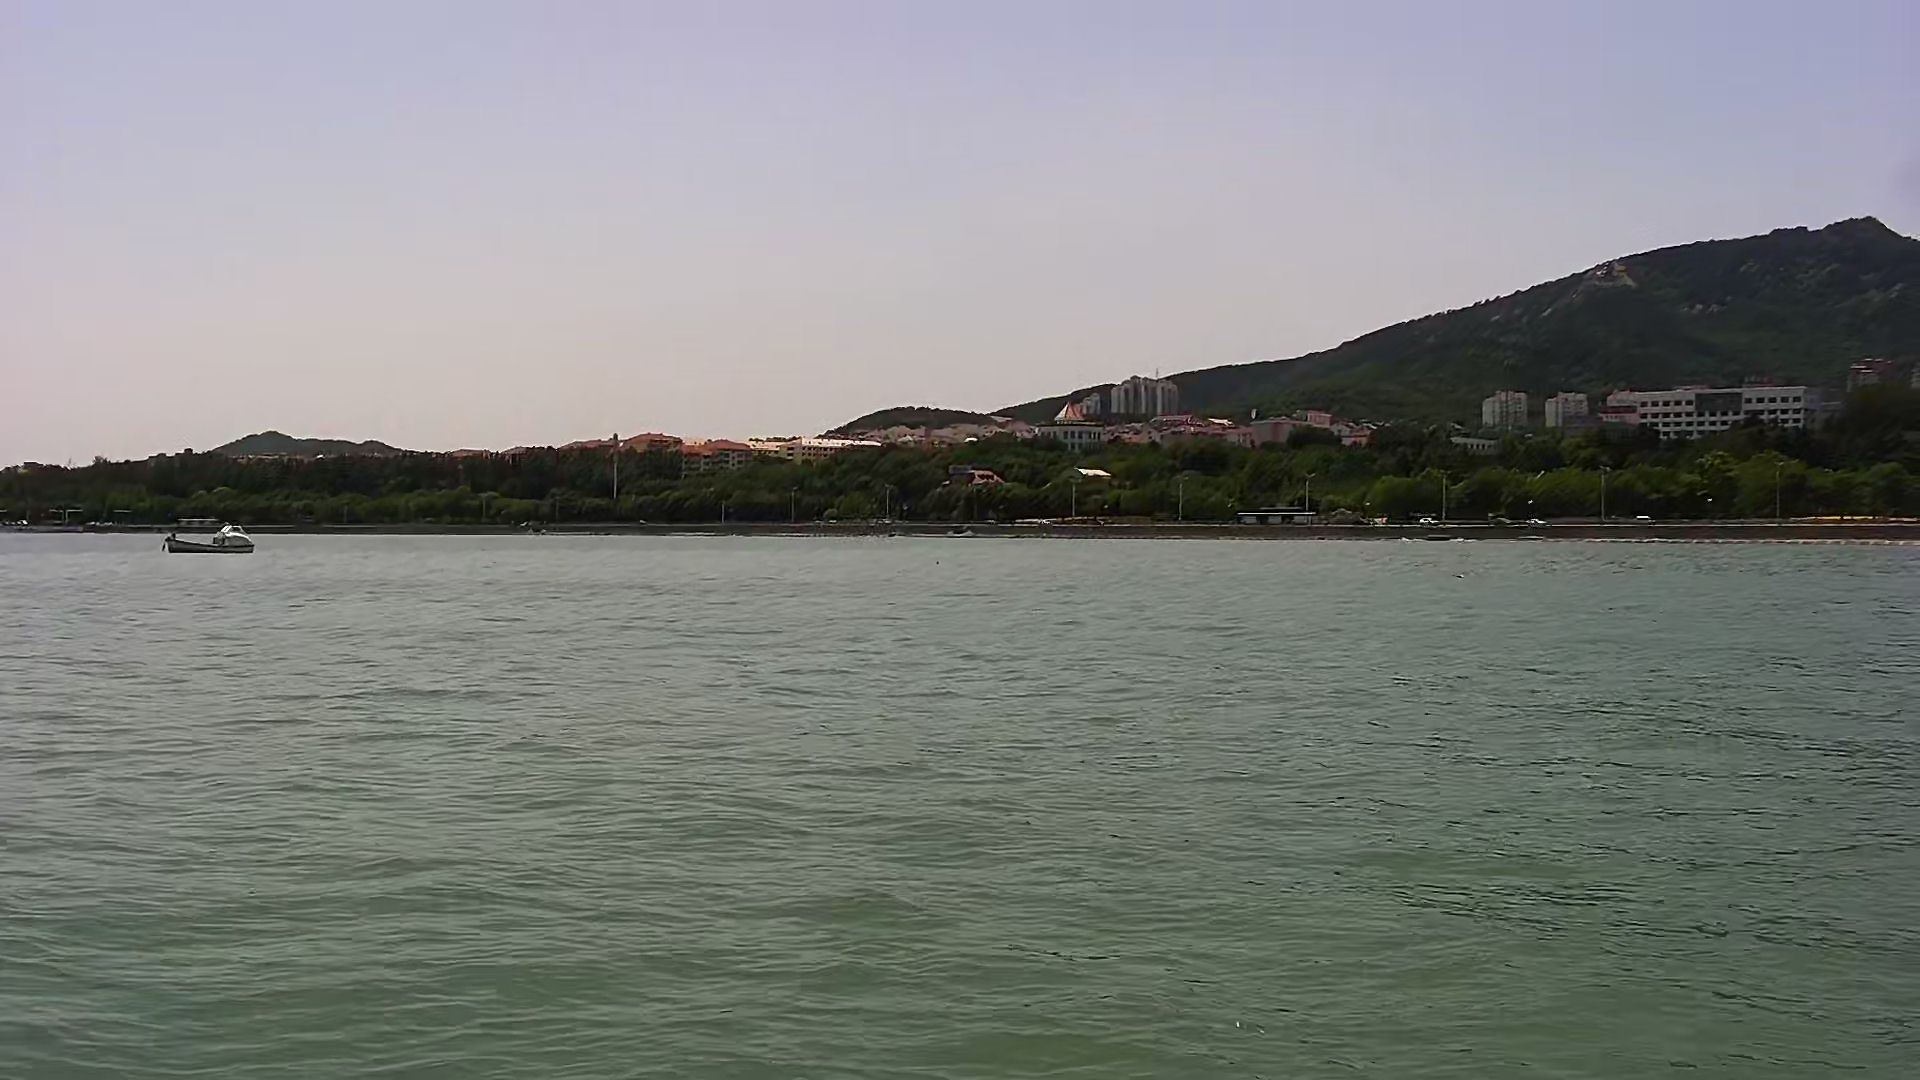ship: (156, 520, 266, 559)
